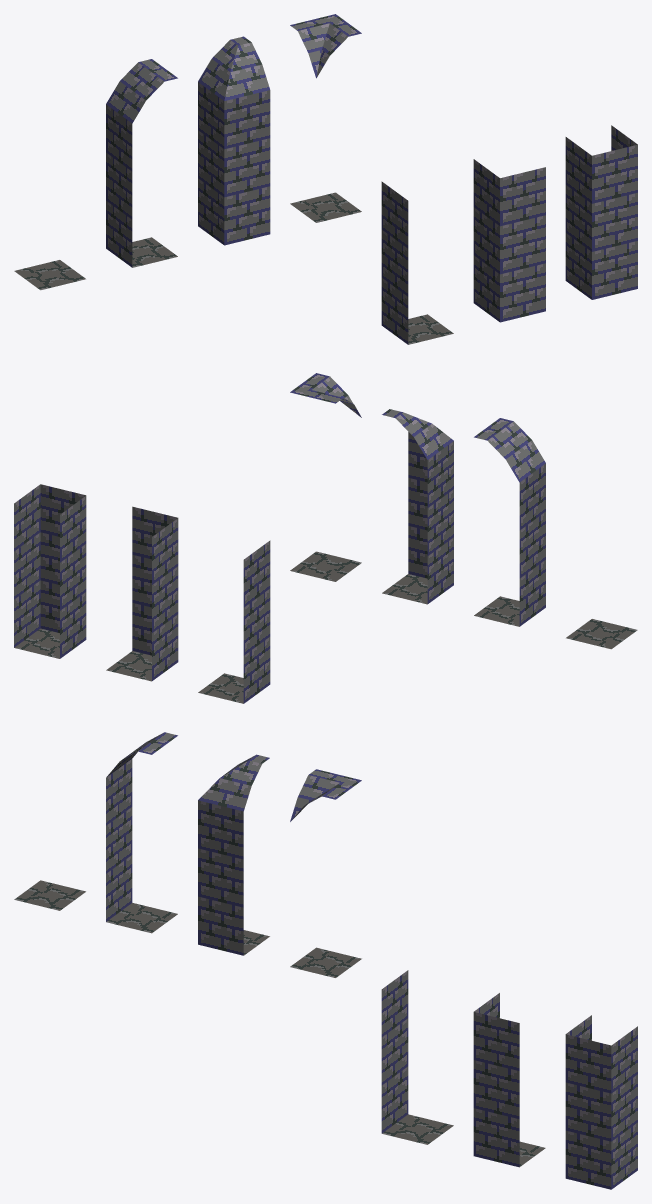
Rendered from walls-tiles.glb.
The picture shows the model from 3 angles, top to bottom: view 1: azimuth 30°, elevation 25°; view 2: azimuth 150°, elevation 25°; view 3: azimuth 330°, elevation 25°; orthographic projection.
Visible parts, largest first — view 1: Wall-Corner-col, Hole-UTurn-col, Hole-Corner-col, Wall-Side-col, Hole-Side-col, Wall-Outer-col, Ground-col; view 2: Hole-UTurn-col, Wall-Corner-col, Hole-Corner-col, Wall-Side-col, Hole-Side-col, Wall-Outer-col, Ground-col; view 3: Hole-UTurn-col, Wall-Corner-col, Hole-Corner-col, Wall-Side-col, Hole-Side-col, Wall-Outer-col, Ground-col.
Boxes of the visible parts, x1,y1,x2,y2 form: Wall-Corner-col: (198, 36, 270, 245); Hole-UTurn-col: (565, 125, 637, 299); Hole-Corner-col: (473, 159, 545, 322); Wall-Side-col: (106, 59, 177, 267); Hole-Side-col: (381, 181, 453, 344); Wall-Outer-col: (290, 14, 361, 222); Ground-col: (14, 260, 85, 290); Hole-UTurn-col: (14, 484, 86, 658); Wall-Corner-col: (382, 409, 453, 604); Hole-Corner-col: (106, 506, 178, 681); Wall-Side-col: (474, 418, 545, 626); Hole-Side-col: (198, 540, 270, 703); Wall-Outer-col: (290, 373, 361, 581); Ground-col: (566, 619, 637, 649); Hole-UTurn-col: (565, 1015, 637, 1189); Wall-Corner-col: (198, 754, 269, 955); Hole-Corner-col: (473, 993, 545, 1167); Wall-Side-col: (106, 732, 177, 933); Hole-Side-col: (381, 970, 453, 1144); Wall-Outer-col: (290, 769, 361, 977); Ground-col: (14, 880, 85, 910).
Bounding box in the file's own units: 13 × 6.71 × 1.
1 material, 1 textured.
